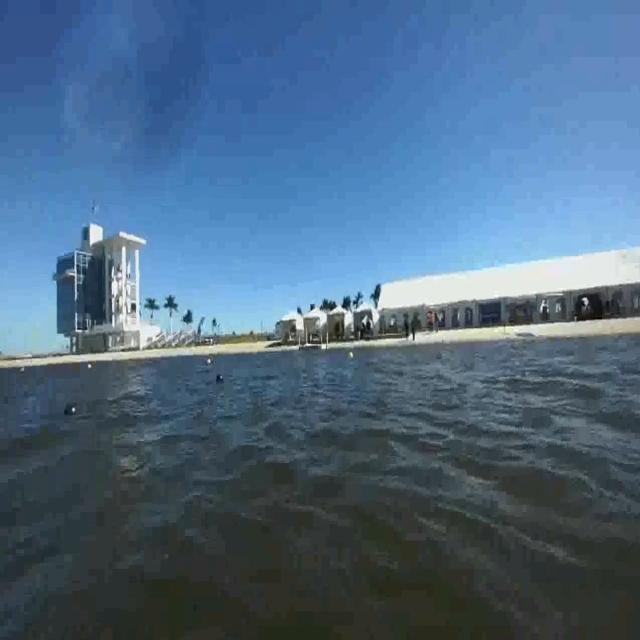black-buoy: (62, 398, 78, 421)
